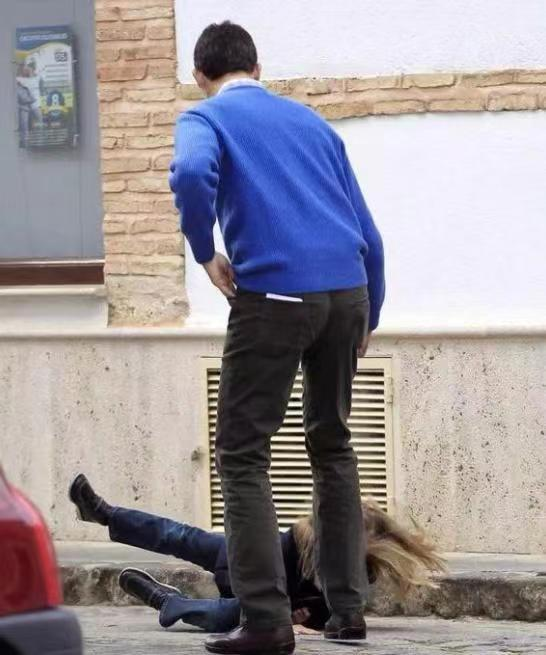bending: (169, 21, 381, 652)
down: (60, 463, 399, 635)
